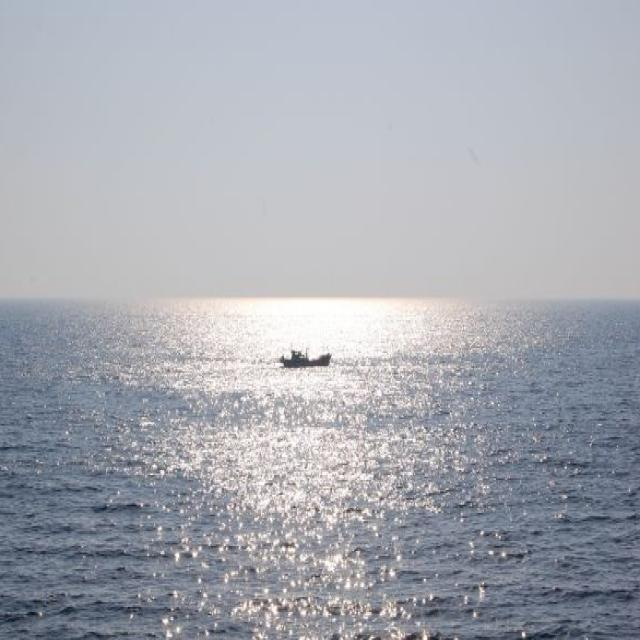fishing boat: (271, 338, 337, 371)
